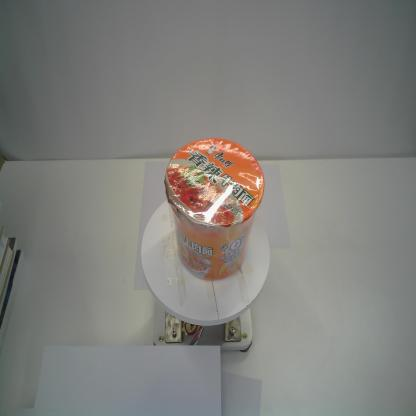Instant Noodles: (164, 136, 265, 284)
